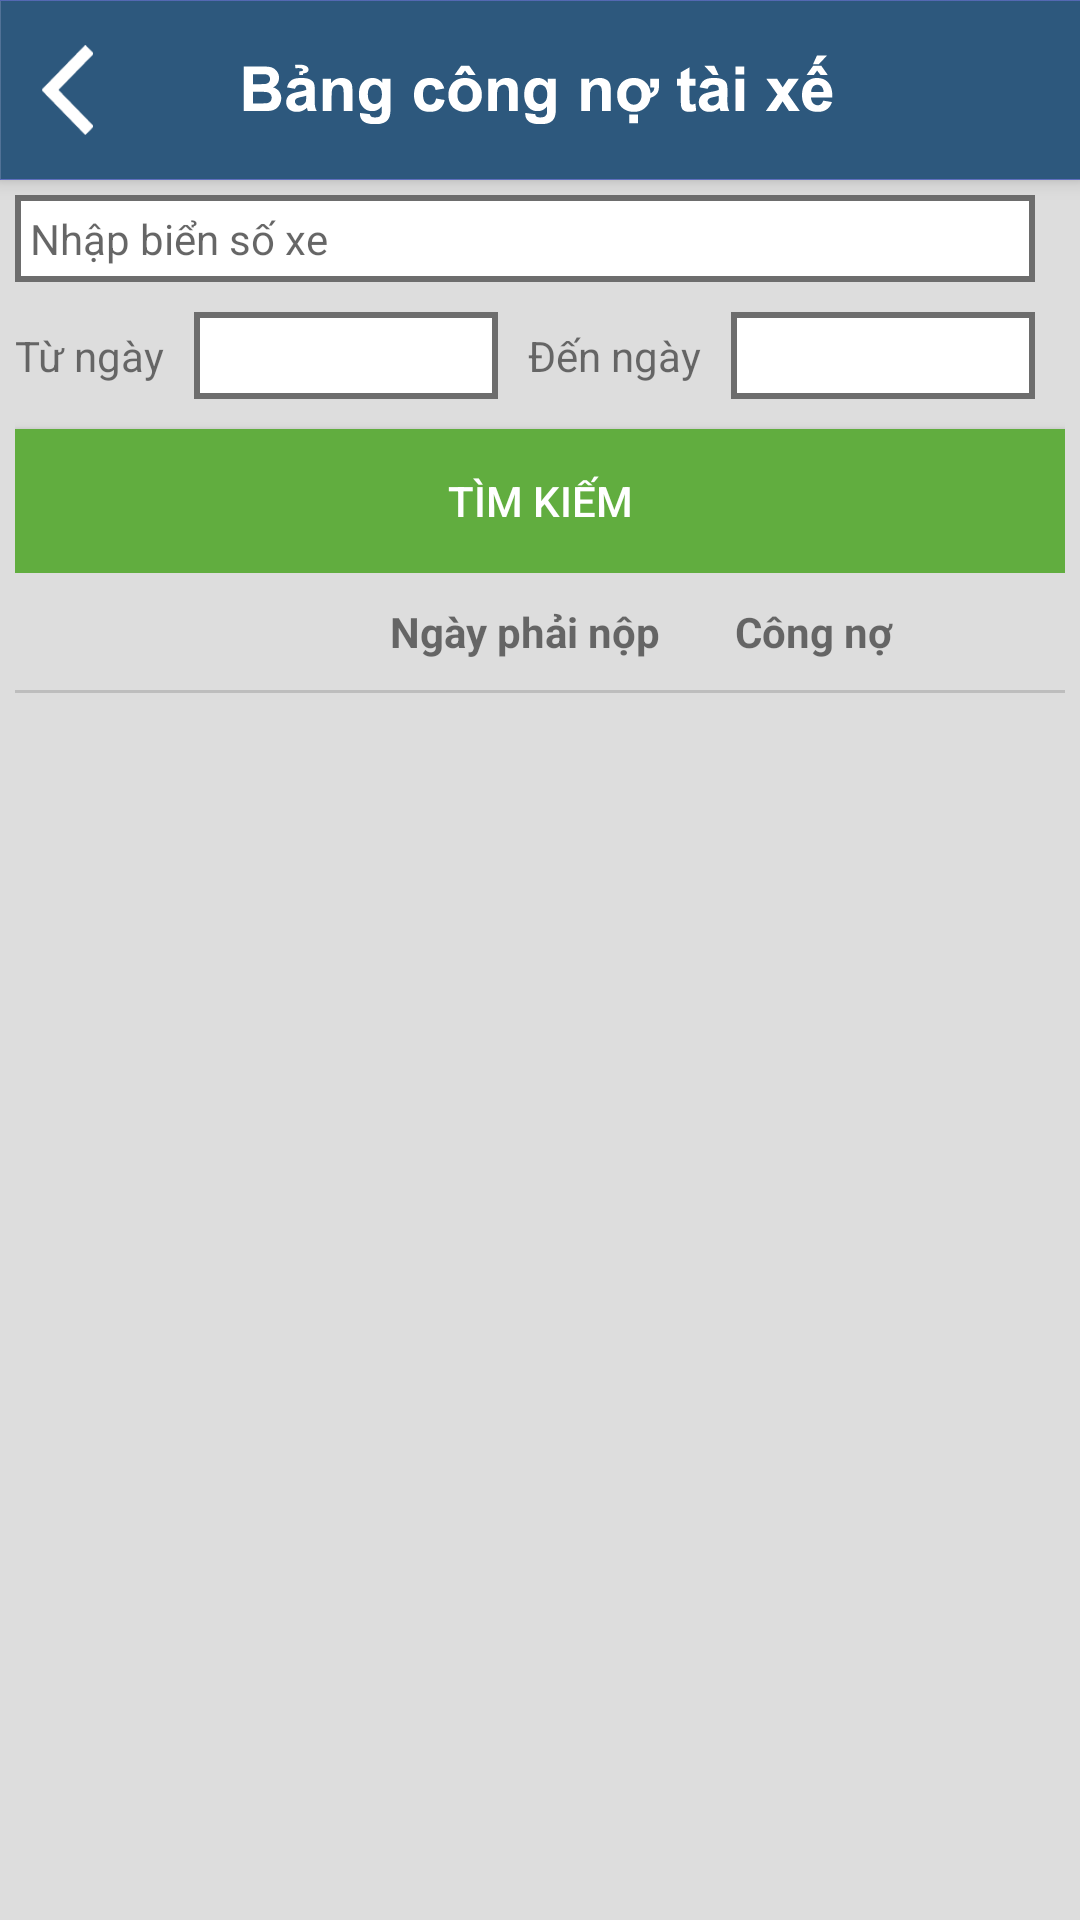

Screen size 1080×1920. Icon name, then its center in pixels as [x,y]:
back: [90,90]
